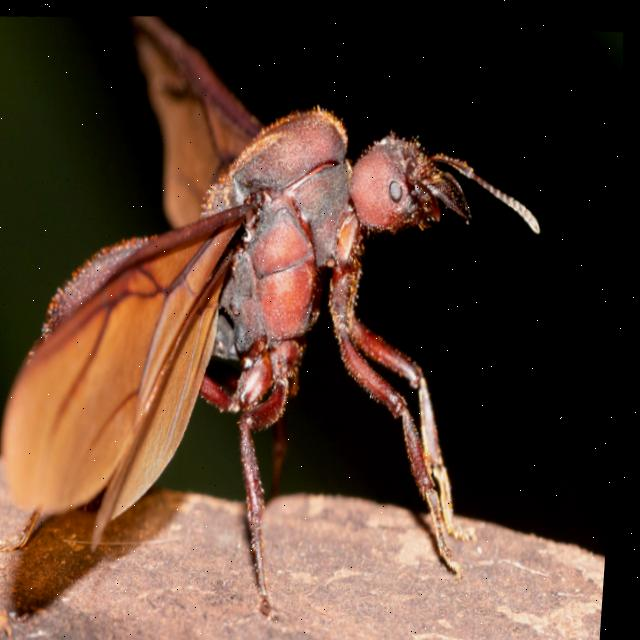Alive-Female-Alate: (0, 0, 573, 621)
